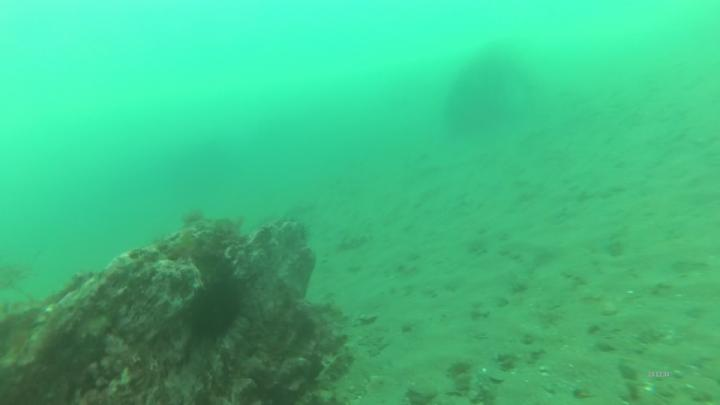echinus: (177, 272, 247, 351)
holothurian: (312, 346, 359, 392)
